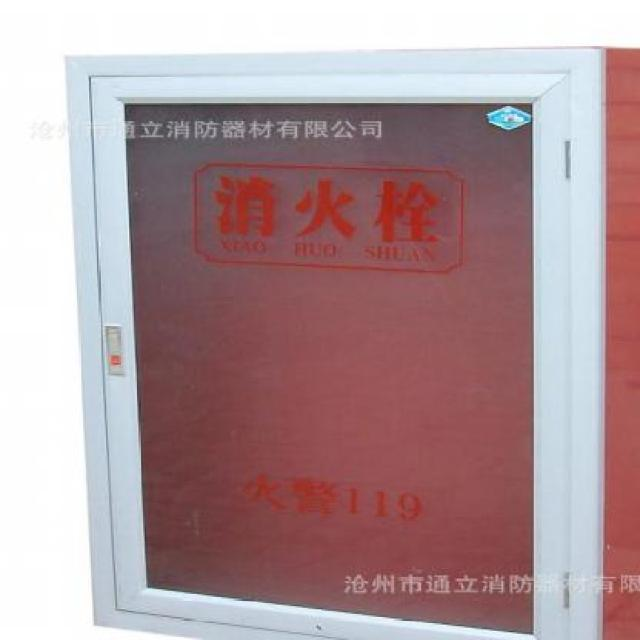firehydrant: (57, 40, 639, 640)
